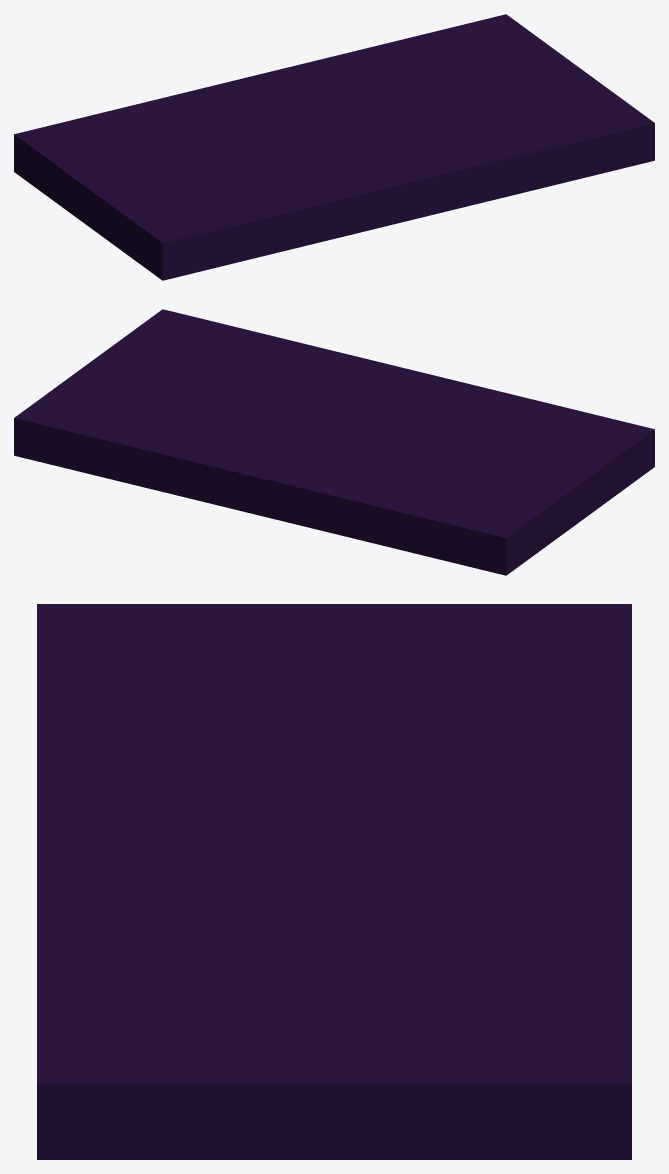
File: Light.fbx
3 renders of one model, top to bottom at view 1: azimuth 30°, elevation 25°; view 2: azimuth 150°, elevation 25°; view 3: azimuth 270°, elevation 25°, orthographic. The views are drawn at different scales.
Visible parts, largest first — view 1: Light; view 2: Light; view 3: Light.
Part boxes in pixels (box(x1,y1,x2,y2)): Light: box(14, 14, 654, 280); Light: box(14, 309, 654, 575); Light: box(37, 604, 631, 1159).
Size of the model in its own units: 181 by 13.22 by 94.68.
